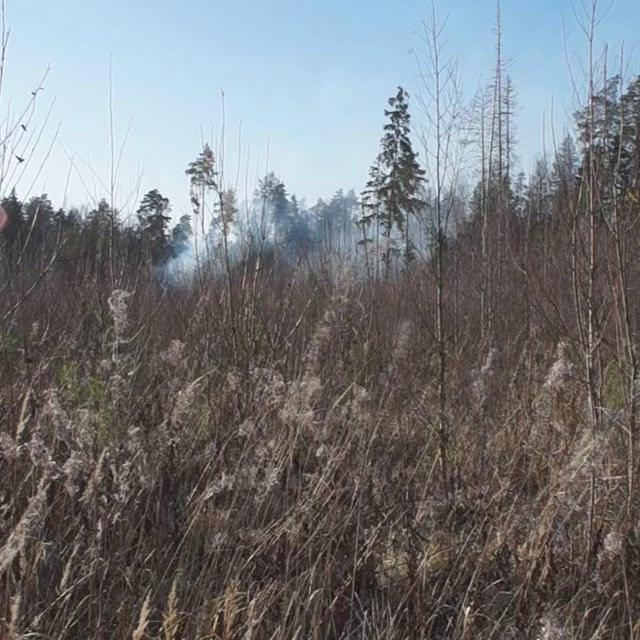Smoke: (152, 176, 487, 302)
